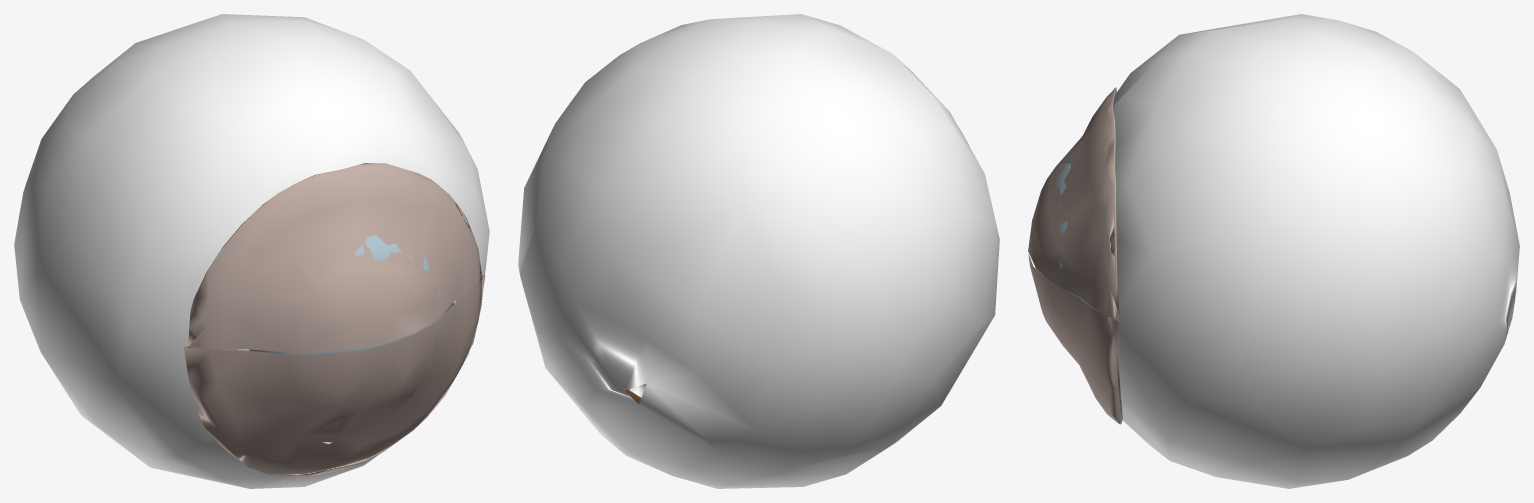
Rendered from eye_l.glb.
3 renders of one model, left to right at view 1: azimuth 30°, elevation 25°; view 2: azimuth 150°, elevation 25°; view 3: azimuth 270°, elevation 25°, orthographic.
Parts seen in each view (by area): view 1: VH_M_sclera_L, VH_M_palpebral_conjunctiva_of_upper_eyelid_L, VH_M_palpebral_conjunctiva_of_lower_eyelid_L, VH_M_bulbar_conjunctiva_L, VH_M_cornea_L; view 2: VH_M_sclera_L; view 3: VH_M_sclera_L, VH_M_palpebral_conjunctiva_of_upper_eyelid_L, VH_M_palpebral_conjunctiva_of_lower_eyelid_L, VH_M_bulbar_conjunctiva_L.
Boxes of the visible parts, x1=… form: VH_M_sclera_L: x1=14, y1=14, x2=489, y2=488; VH_M_palpebral_conjunctiva_of_upper_eyelid_L: x1=189, y1=165, x2=482, y2=352; VH_M_palpebral_conjunctiva_of_lower_eyelid_L: x1=184, y1=275, x2=485, y2=475; VH_M_bulbar_conjunctiva_L: x1=187, y1=163, x2=482, y2=475; VH_M_cornea_L: x1=249, y1=235, x2=453, y2=354; VH_M_sclera_L: x1=518, y1=14, x2=999, y2=488; VH_M_sclera_L: x1=1112, y1=14, x2=1519, y2=488; VH_M_palpebral_conjunctiva_of_upper_eyelid_L: x1=1028, y1=91, x2=1118, y2=319; VH_M_palpebral_conjunctiva_of_lower_eyelid_L: x1=1028, y1=254, x2=1120, y2=424; VH_M_bulbar_conjunctiva_L: x1=1087, y1=87, x2=1122, y2=424.
Size of the model in its own units: 0.0244 by 0.0242 by 0.0253.
